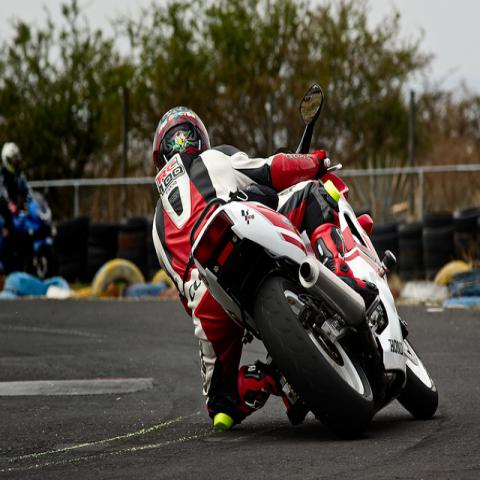motorcycle: (185, 55, 440, 421), (2, 187, 56, 277)
